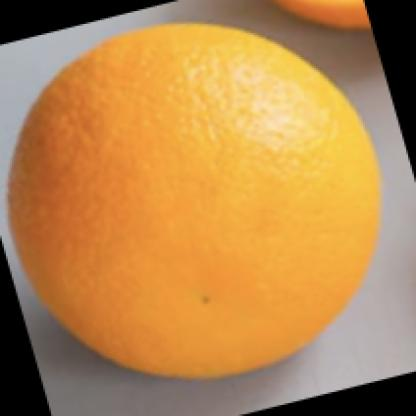fresh: (8, 24, 380, 377)
